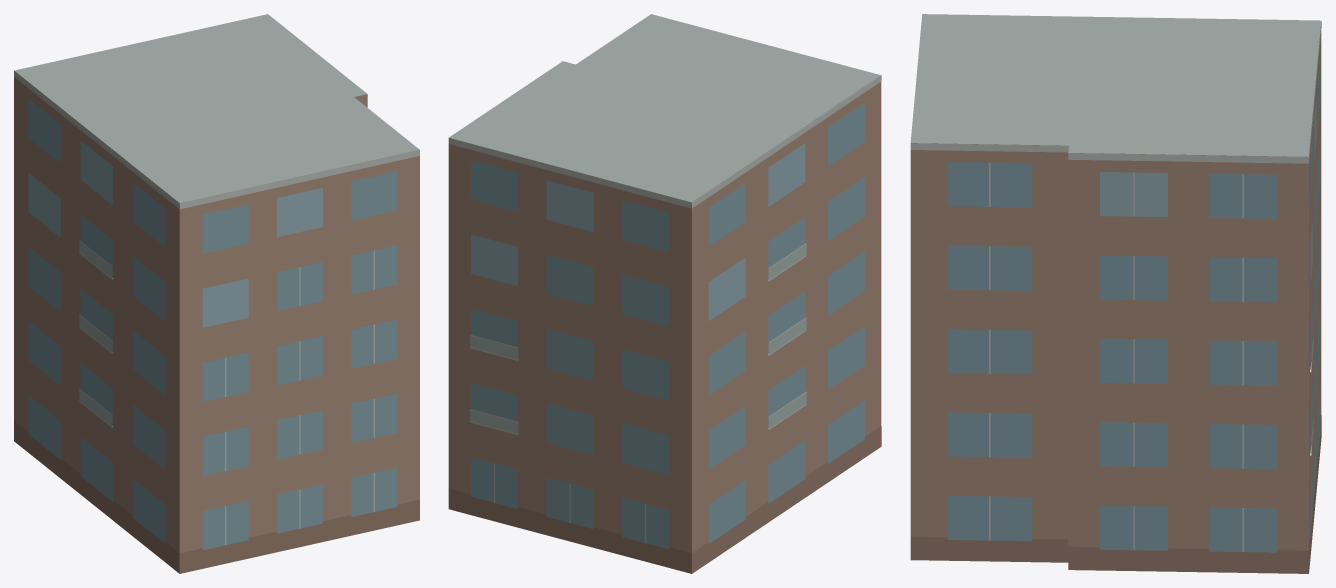
File: survey-upis-32652723.glb
3 views of the same model, side by side, from view 1: azimuth 30°, elevation 25°; view 2: azimuth 150°, elevation 25°; view 3: azimuth 270°, elevation 25° (orthographic). The views are drawn at different scales.
Parts seen in each view (by area): view 1: survey-upis-32652723.tmp; view 2: survey-upis-32652723.tmp; view 3: survey-upis-32652723.tmp.
Boxes of the visible parts, bbox=[...] form: survey-upis-32652723.tmp: bbox=[14, 14, 419, 573]; survey-upis-32652723.tmp: bbox=[448, 14, 881, 573]; survey-upis-32652723.tmp: bbox=[910, 14, 1321, 573].
Bounding box in the file's own units: 10.8 × 14.7 × 13.13.
